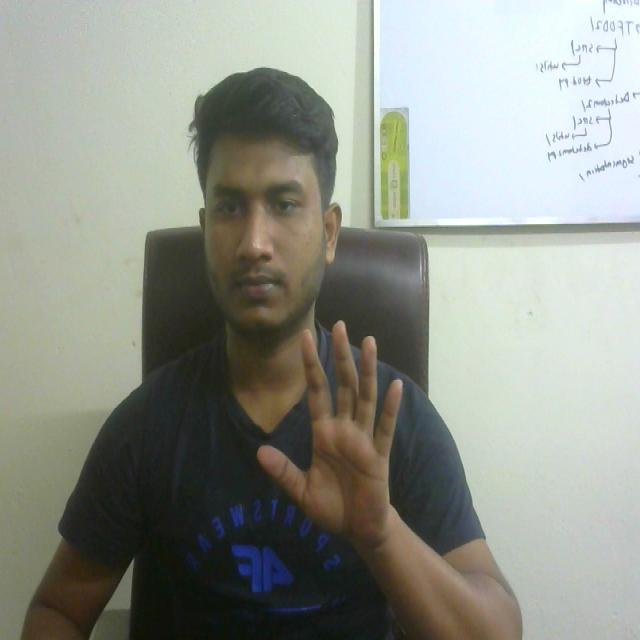A: (249, 311, 429, 573)
